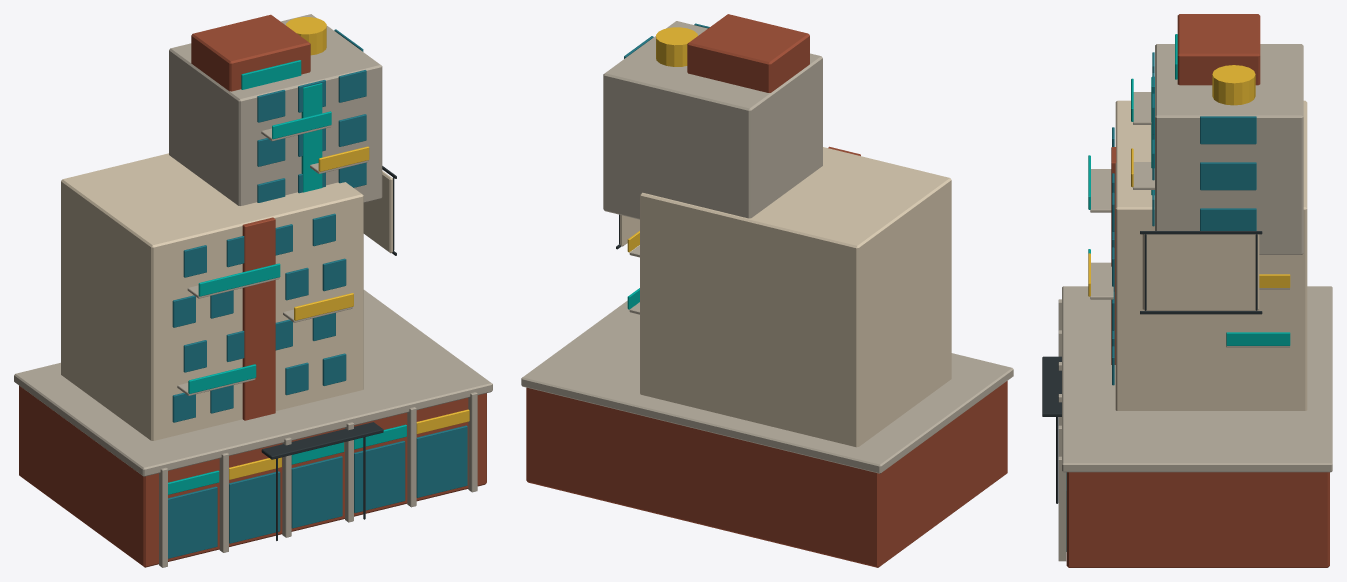
Rendered from JHB_SkylinePop_02_LOD1.fbx.
3 views of the same model, side by side, from view 1: azimuth 30°, elevation 25°; view 2: azimuth 150°, elevation 25°; view 3: azimuth 270°, elevation 25° (orthographic). The views are drawn at different scales.
Visible parts, largest first — view 1: JHB02_LowerTower_LOD1, JHB02_Podium_Cornice_LOD1, JHB02_UpperTower_LOD1, JHB02_Podium_LOD1, JHB02_LowerTower_BrickSpine_LOD1, JHB02_RooftopMechanicalRoom_LOD1, JHB02_Shopfront_03_LOD1, JHB02_Shopfront_05_LOD1, JHB02_Shopfront_04_LOD1, JHB02_Shopfront_01_LOD1, JHB02_Shopfront_02_LOD1, JHB02_UpperAccentSpine_LOD1 (+32 smaller); view 2: JHB02_LowerTower_LOD1, JHB02_Podium_LOD1, JHB02_UpperTower_LOD1, JHB02_Podium_Cornice_LOD1, JHB02_RooftopMechanicalRoom_LOD1, JHB02_WaterTank_LOD1; view 3: JHB02_LowerTower_LOD1, JHB02_Podium_Cornice_LOD1, JHB02_Podium_LOD1, JHB02_UpperTower_LOD1, JHB02_EastBillboardPanel_LOD1, JHB02_RooftopMechanicalRoom_LOD1, JHB02_UpperEastGlass_F02_LOD1, JHB02_UpperEastGlass_F03_LOD1, JHB02_WaterTank_LOD1, JHB02_UpperEastGlass_F01_LOD1, JHB02_EntryCanopy_LOD1, JHB02_BalconySlab_03_LOD1 (+9 smaller).
Boxes of the visible parts, box(x1,y1,x2,y2) form: JHB02_LowerTower_LOD1: box(61, 153, 363, 440); JHB02_Podium_Cornice_LOD1: box(14, 290, 492, 476); JHB02_UpperTower_LOD1: box(169, 14, 382, 205); JHB02_Podium_LOD1: box(19, 385, 486, 567); JHB02_LowerTower_BrickSpine_LOD1: box(242, 217, 275, 420); JHB02_RooftopMechanicalRoom_LOD1: box(191, 14, 310, 91); JHB02_Shopfront_03_LOD1: box(291, 456, 342, 528); JHB02_Shopfront_05_LOD1: box(416, 425, 467, 497); JHB02_Shopfront_04_LOD1: box(354, 441, 405, 512); JHB02_Shopfront_01_LOD1: box(168, 486, 217, 558); JHB02_Shopfront_02_LOD1: box(229, 471, 280, 543); JHB02_UpperAccentSpine_LOD1: box(301, 83, 322, 192); JHB02_LowerTower_LOD1: box(640, 147, 951, 447); JHB02_Podium_LOD1: box(526, 381, 1007, 567); JHB02_UpperTower_LOD1: box(603, 21, 822, 219); JHB02_Podium_Cornice_LOD1: box(521, 300, 1013, 473); JHB02_RooftopMechanicalRoom_LOD1: box(687, 14, 809, 92); JHB02_WaterTank_LOD1: box(656, 27, 697, 66); JHB02_LowerTower_LOD1: box(1115, 100, 1307, 410); JHB02_Podium_Cornice_LOD1: box(1062, 286, 1332, 472); JHB02_Podium_LOD1: box(1066, 472, 1329, 567); JHB02_UpperTower_LOD1: box(1155, 44, 1303, 254); JHB02_EastBillboardPanel_LOD1: box(1142, 234, 1259, 310); JHB02_RooftopMechanicalRoom_LOD1: box(1177, 14, 1260, 85); JHB02_UpperEastGlass_F02_LOD1: box(1200, 162, 1256, 190); JHB02_UpperEastGlass_F03_LOD1: box(1200, 116, 1256, 144); JHB02_WaterTank_LOD1: box(1212, 65, 1255, 105); JHB02_UpperEastGlass_F01_LOD1: box(1200, 208, 1256, 230); JHB02_EntryCanopy_LOD1: box(1042, 356, 1061, 416); JHB02_BalconySlab_03_LOD1: box(1090, 169, 1111, 212).
Size of the model in its own units: 22.4 by 26.5 by 15.44.
